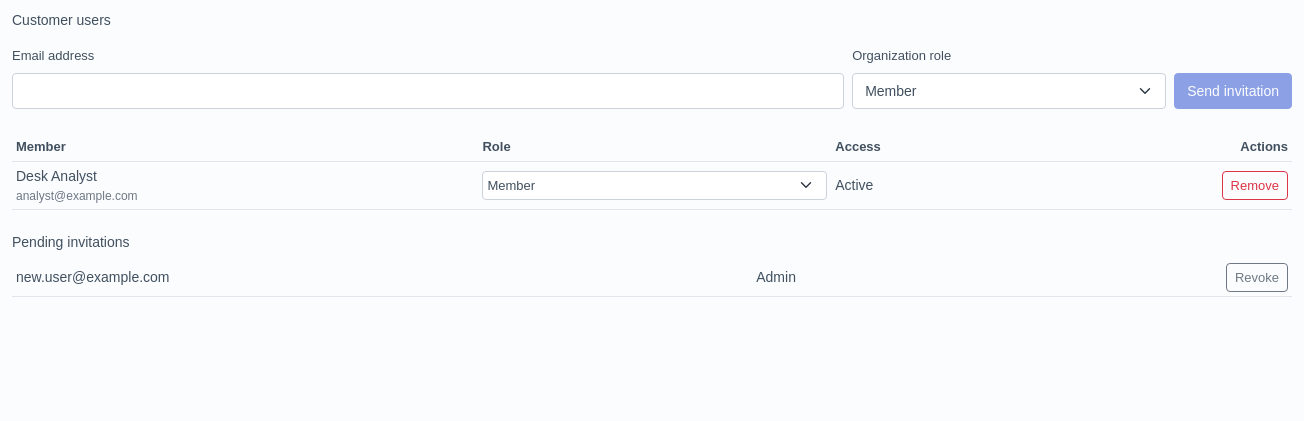
Test: CustomerUsersPanel › copies the one-time fallback link without storing it elsewhere
Type "invitee@example.com" into the field labelled "Email address".
click(428, 91); type("invitee@example.com")  # box [12,73,844,109]
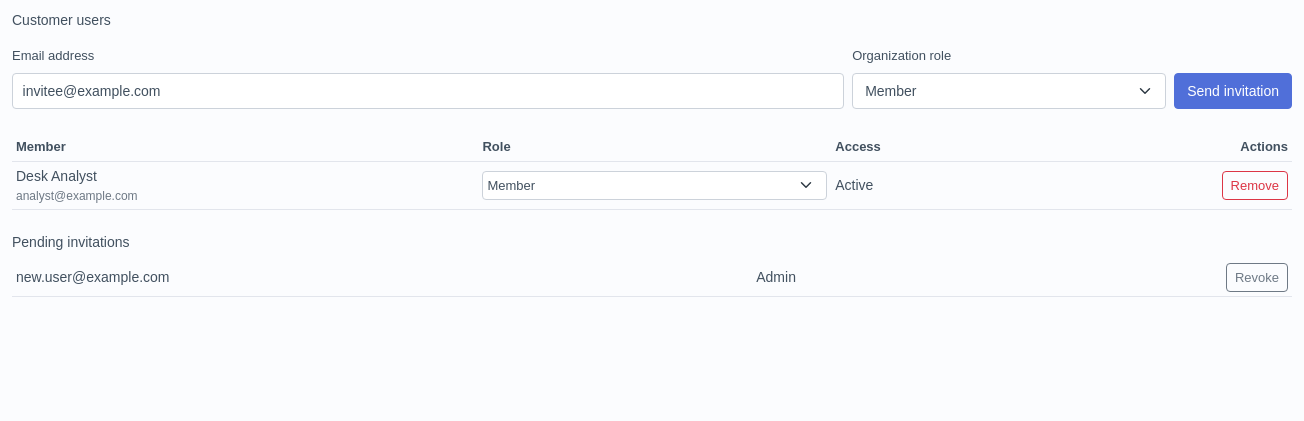
Click the button "Send invitation".
click(1233, 91)  # box [1174,73,1292,109]
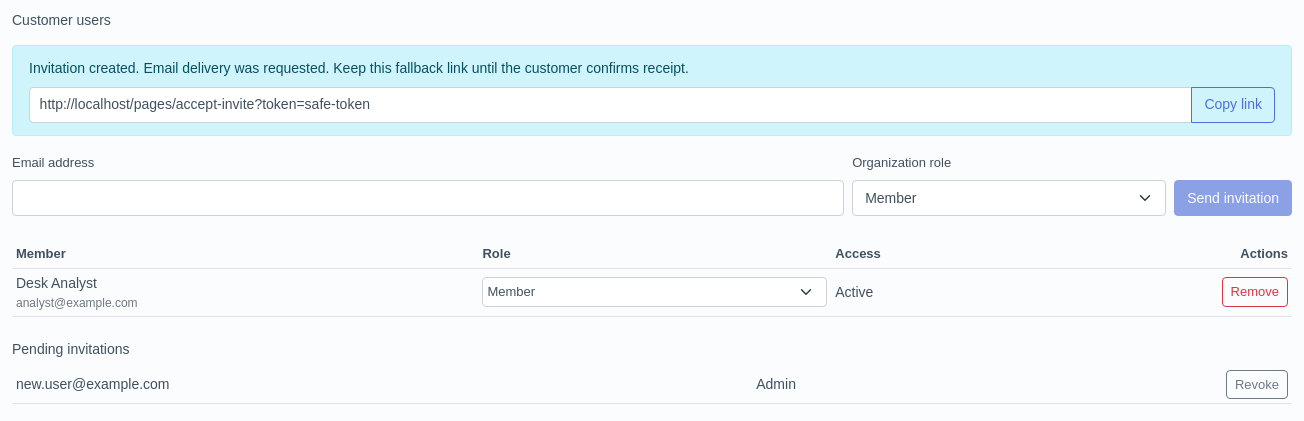
Click the button "Copy link".
click(1233, 105)  # box [1191,87,1275,123]
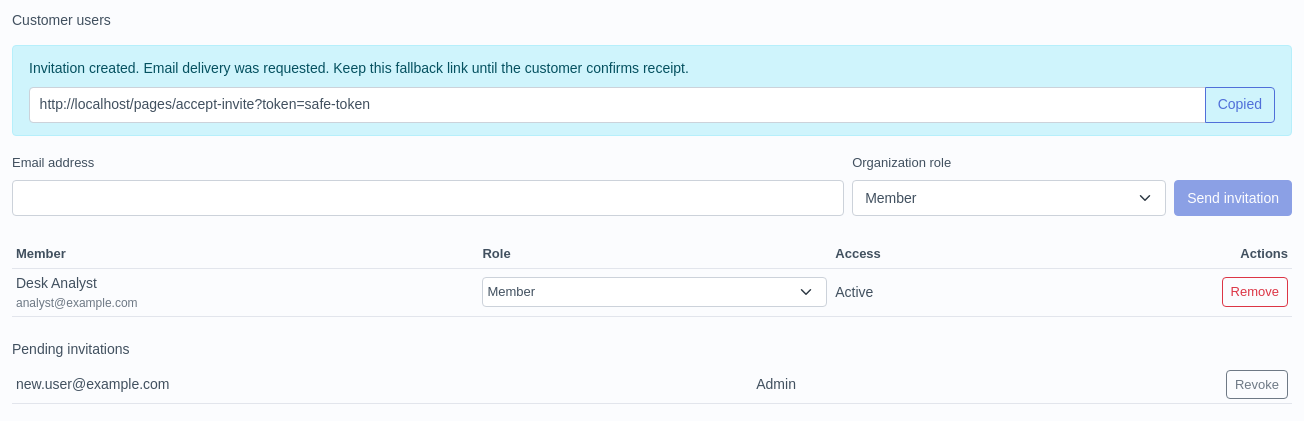
Expected: the button "Copied" is shown, [1205,87,1275,123]
